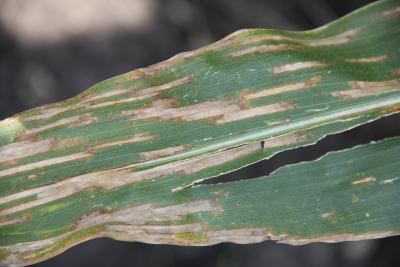Corn Gray leaf spot: (1, 1, 398, 267)
